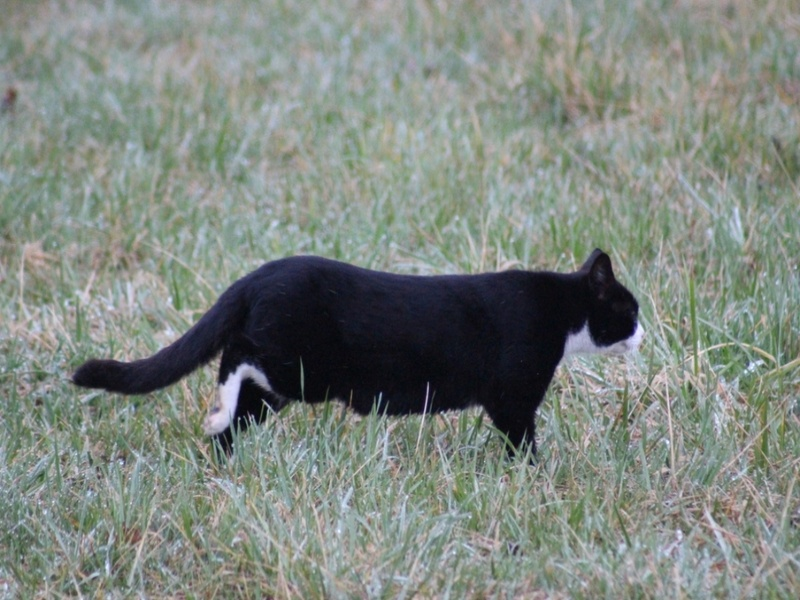cat: (66, 245, 647, 479)
